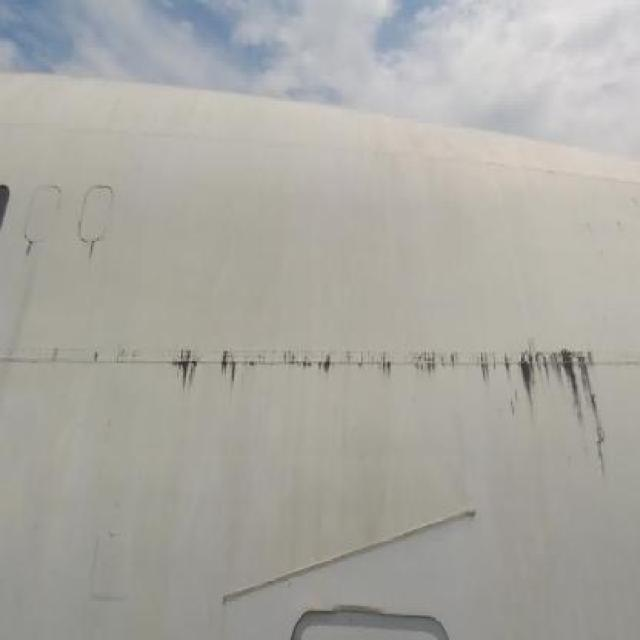Rust: (156, 329, 610, 491), (86, 238, 100, 274), (26, 240, 32, 257)
